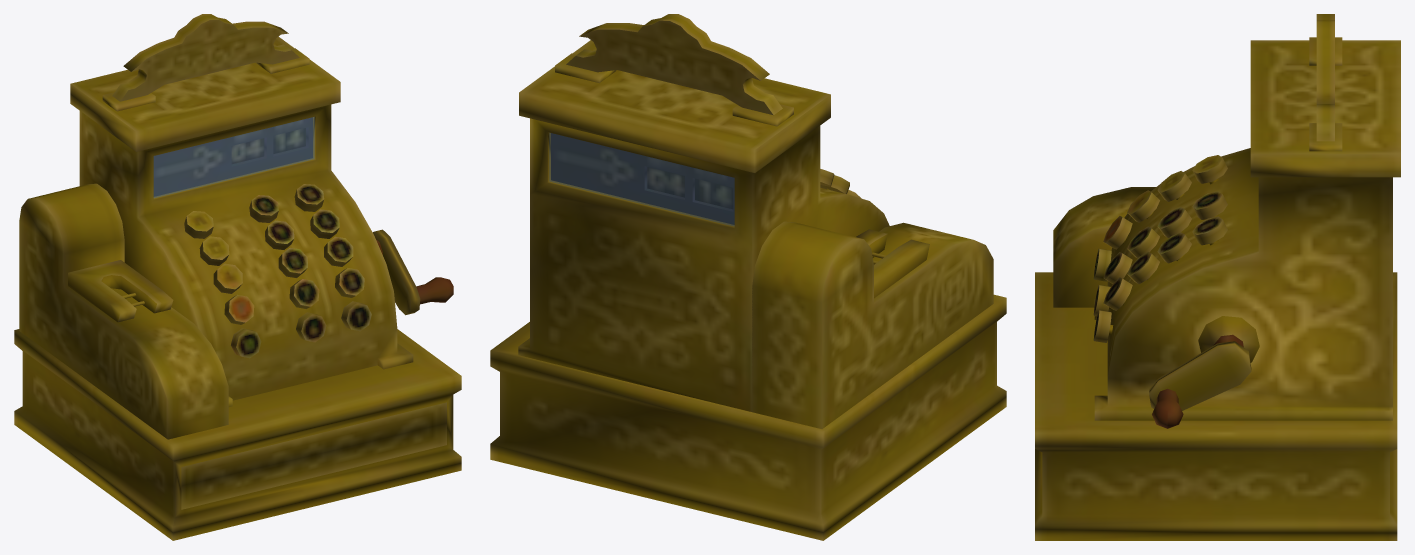
3 renders of one model, left to right at view 1: azimuth 30°, elevation 25°; view 2: azimuth 150°, elevation 25°; view 3: azimuth 270°, elevation 25°, orthographic. The views are drawn at different scales.
Bounding box in the file's own units: 7.89 × 8.75 × 6.5.
Materials: 2 (1 with a texture image).
